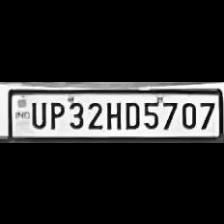0: (176, 98, 198, 128)
2: (85, 97, 103, 128)
3: (66, 97, 84, 128)
5: (140, 98, 160, 128)
7: (196, 99, 216, 129), (160, 99, 176, 129)
D: (122, 97, 140, 128)
H: (104, 99, 120, 129)
P: (46, 99, 64, 129)
U: (28, 98, 46, 128)
